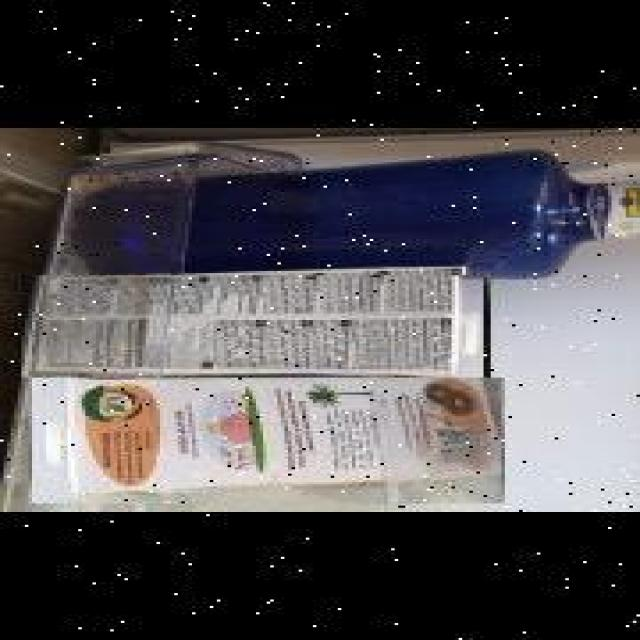milk: (29, 378, 502, 503), (21, 275, 487, 378)
